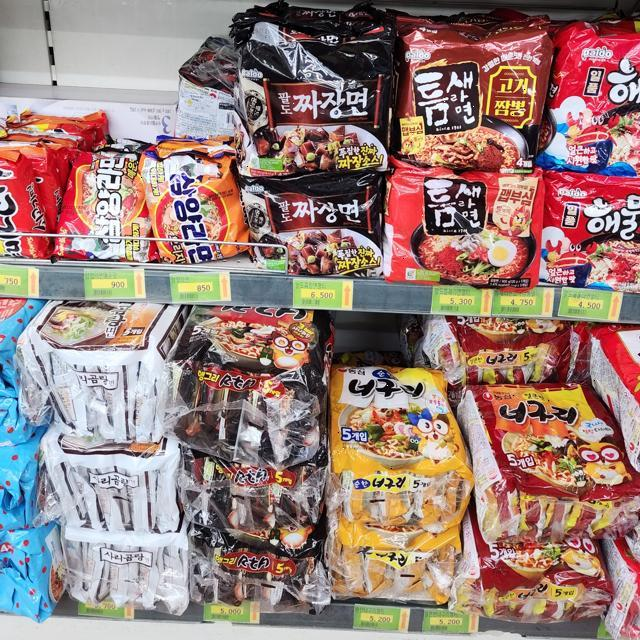product: (382, 155, 543, 289), (407, 31, 538, 166), (468, 376, 624, 489), (236, 54, 385, 172), (238, 169, 386, 276), (329, 362, 466, 477), (143, 151, 253, 266), (544, 174, 640, 289), (58, 157, 153, 262)
